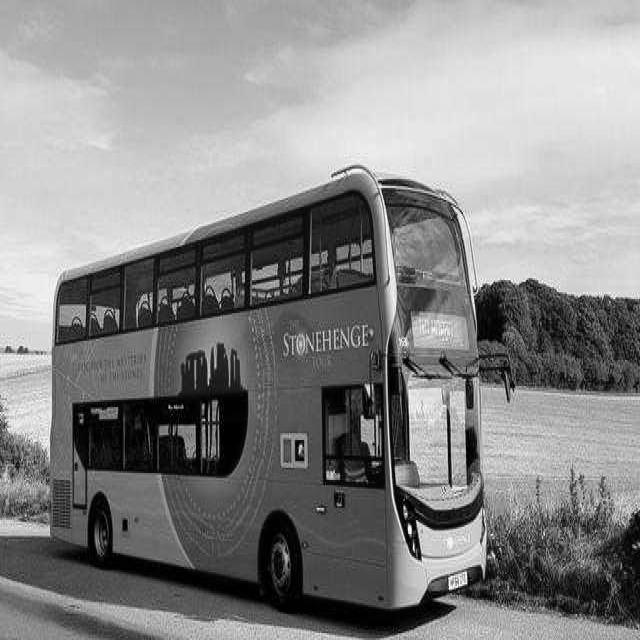Bus: (50, 165, 486, 608)
